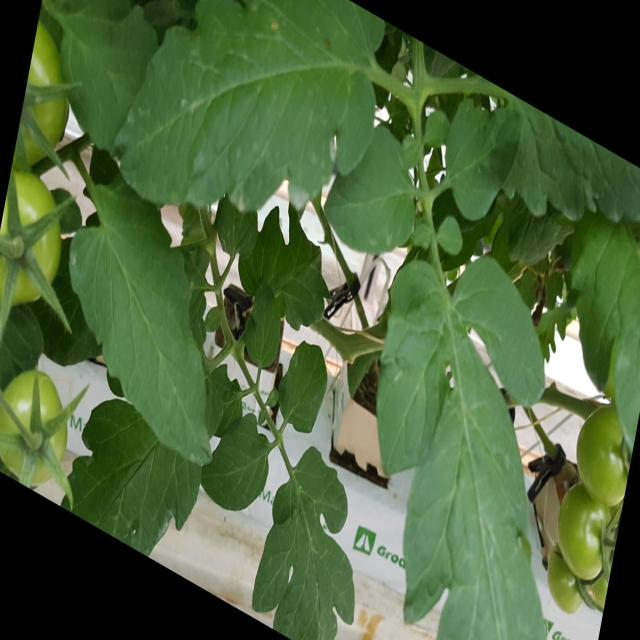Healthy Leaf: (68, 168, 218, 472), (249, 441, 357, 639), (319, 122, 418, 259), (443, 90, 524, 228), (198, 407, 272, 514), (275, 337, 330, 436), (242, 274, 284, 370)
